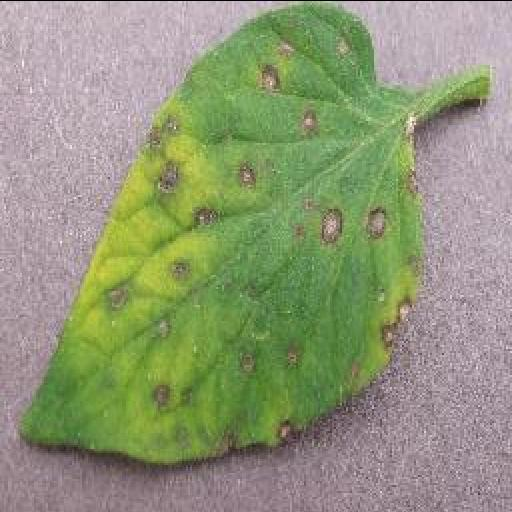disease_tomato: (16, 0, 426, 466)
